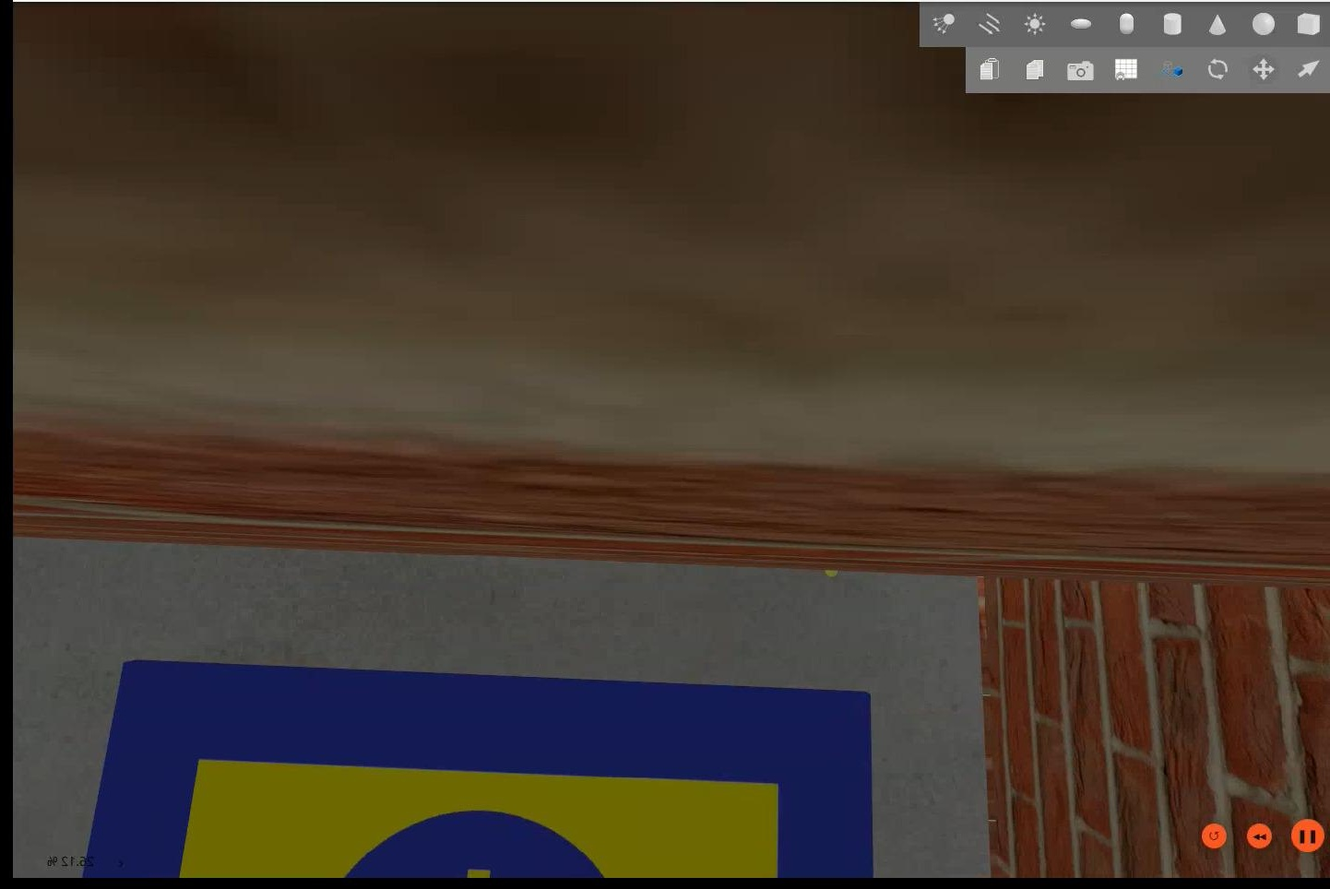large_base: (83, 664, 874, 880)
